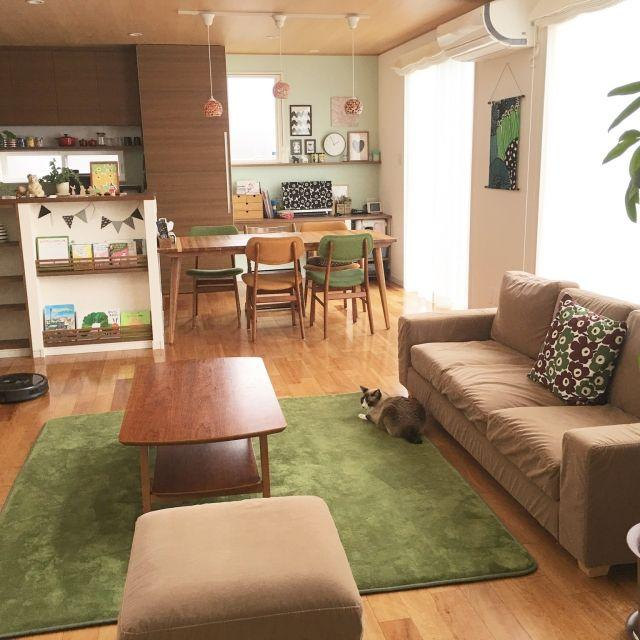natural chair: (244, 238, 305, 342), (318, 231, 369, 334), (189, 250, 242, 330)
natural desk: (154, 222, 394, 331), (122, 356, 287, 505)
natural sofa: (399, 268, 640, 575)
